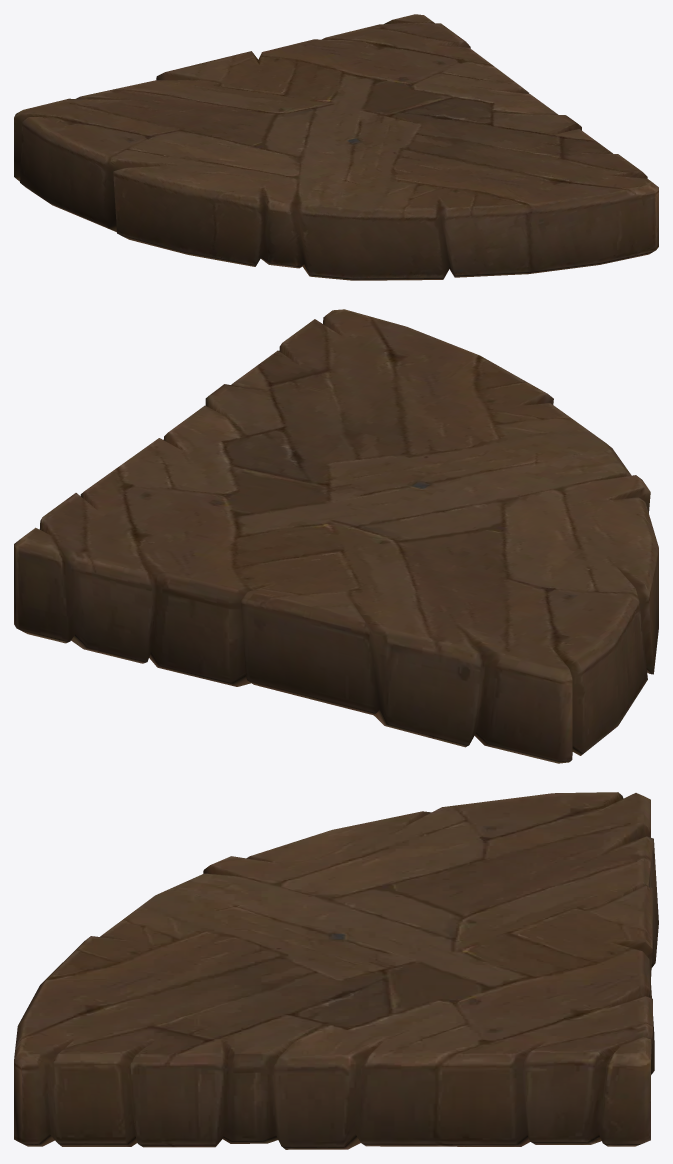
3 views of the same model, one above another, from view 1: azimuth 30°, elevation 25°; view 2: azimuth 150°, elevation 25°; view 3: azimuth 270°, elevation 25° (orthographic). The views are drawn at different scales.
Bounding box in the file's own units: 5.05 × 0.854 × 5.09.
Materials: 1 (1 with a texture image).
